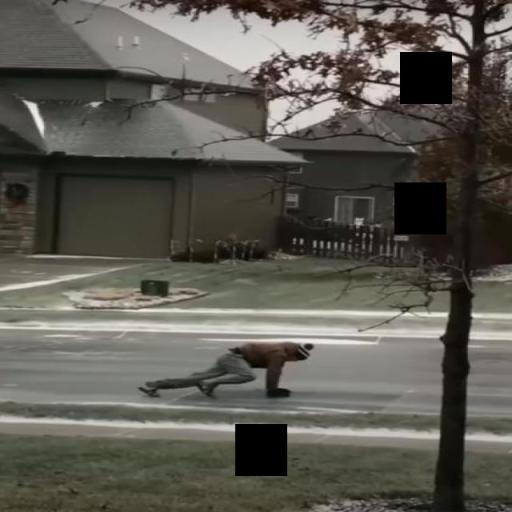Fall: (134, 336, 317, 402)
